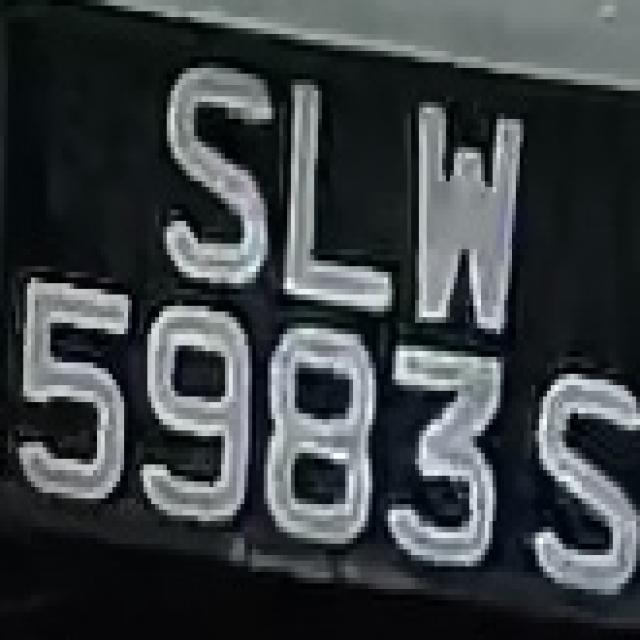3: (372, 329, 504, 572)
5: (12, 249, 132, 504)
8: (256, 306, 384, 549)
9: (144, 278, 252, 526)
L: (272, 62, 396, 328)
S: (147, 39, 276, 294), (516, 346, 640, 606)
W: (403, 79, 543, 340)
